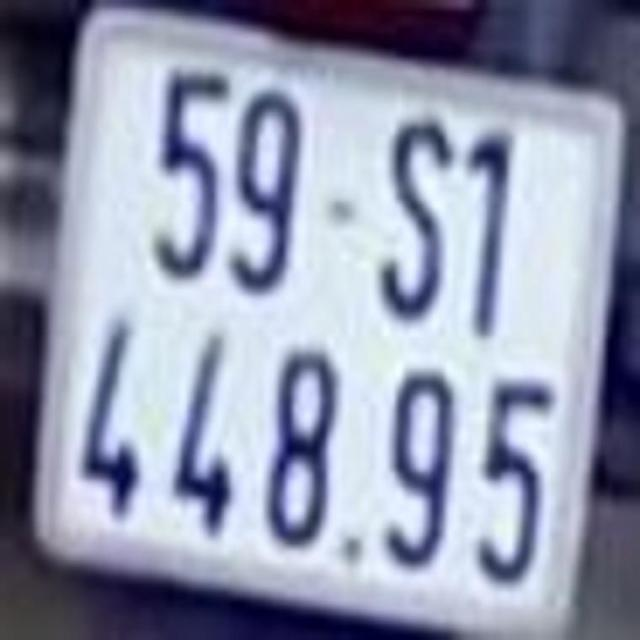1: (462, 120, 517, 338)
4: (78, 317, 144, 518), (173, 329, 235, 536)
5: (152, 64, 226, 281), (478, 374, 554, 585)
8: (268, 347, 334, 547)
9: (230, 83, 300, 295), (387, 366, 453, 569)
S: (378, 112, 454, 320)
